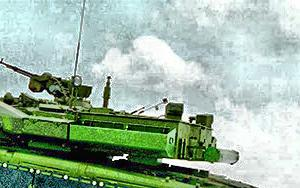tanks: (1, 62, 258, 188)
